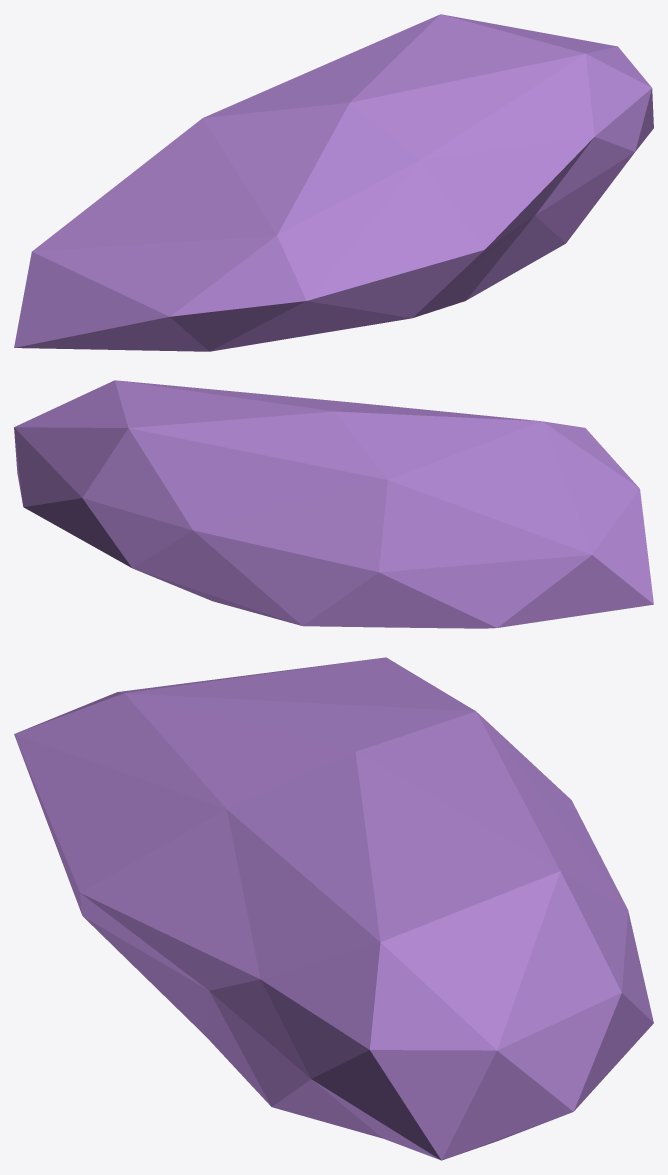
Rendered from rock2.fbx.
3 renders of one model, top to bottom at view 1: azimuth 30°, elevation 25°; view 2: azimuth 150°, elevation 25°; view 3: azimuth 270°, elevation 25°, orthographic. The views are drawn at different scales.
Parts seen in each view (by area): view 1: rock1.001; view 2: rock1.001; view 3: rock1.001.
Boxes of the visible parts, bbox=[...] form: rock1.001: bbox=[14, 14, 653, 351]; rock1.001: bbox=[14, 380, 653, 628]; rock1.001: bbox=[14, 657, 653, 1160].
Size of the model in its own units: 314 by 78.03 by 182.
